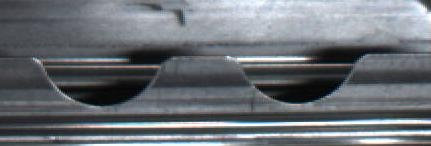twou: (38, 49, 360, 114)
